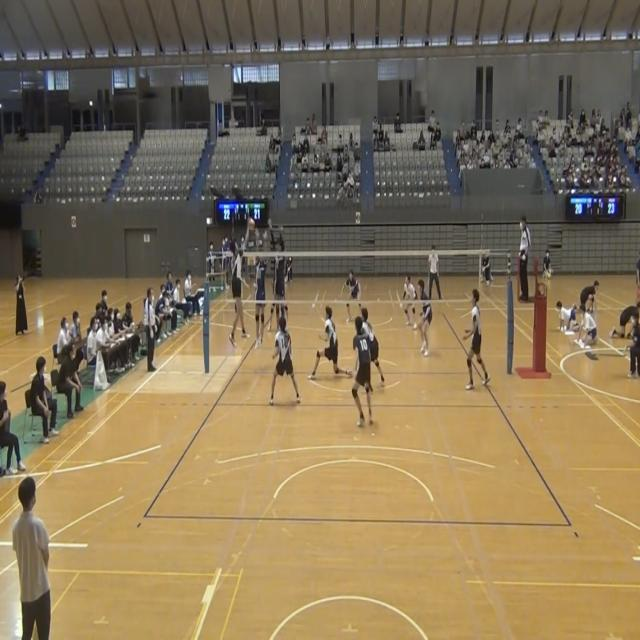spike: (227, 212, 260, 354)
